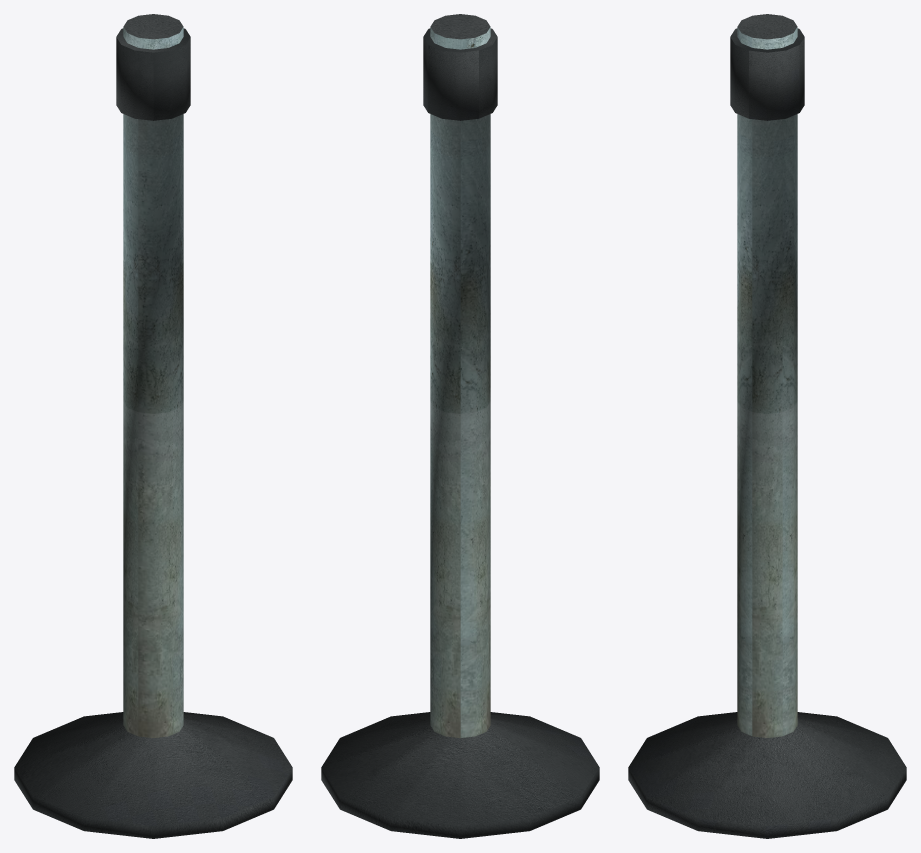
Rendered from Piller.fbx.
3 renders of one model, left to right at view 1: azimuth 30°, elevation 25°; view 2: azimuth 150°, elevation 25°; view 3: azimuth 270°, elevation 25°, orthographic.
Parts seen in each view (by area): view 1: Pfeiler.007; view 2: Pfeiler.007; view 3: Pfeiler.007.
Part boxes in pixels (x1,y1,x2,y2): Pfeiler.007: (14,14,292,838); Pfeiler.007: (321,14,599,838); Pfeiler.007: (628,14,906,838).
Size of the model in its own units: 0.4265 by 0.4265 by 1.27.
